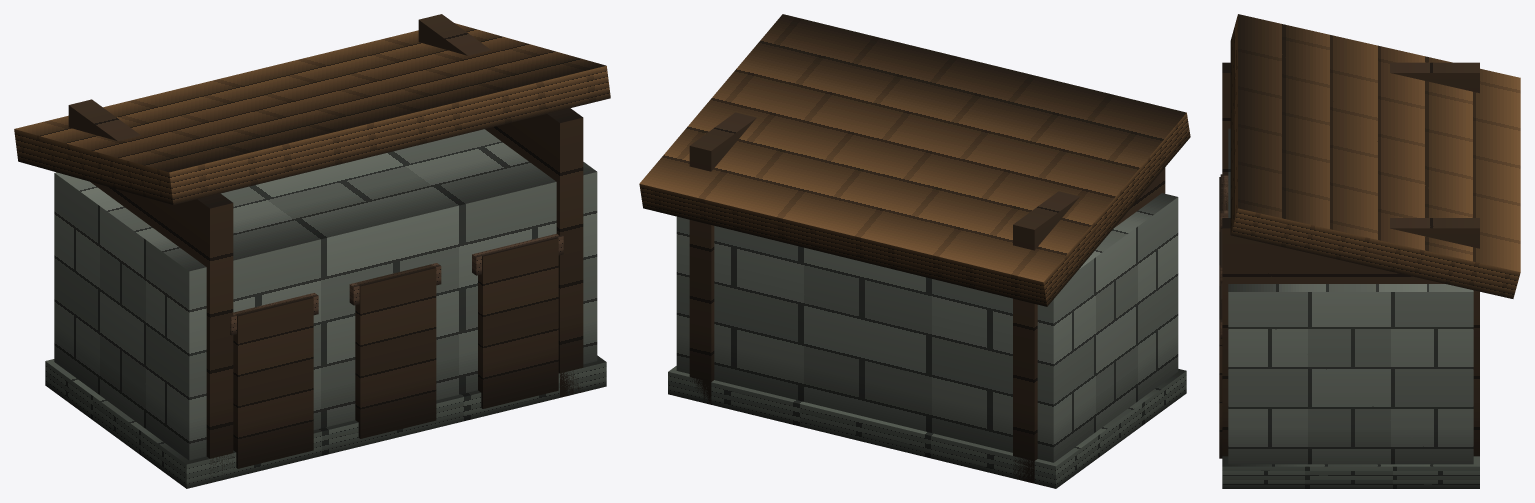
Rendered from stable_slate.gltf.
The picture shows the model from 3 angles, left to right: view 1: azimuth 30°, elevation 25°; view 2: azimuth 150°, elevation 25°; view 3: azimuth 270°, elevation 25°; orthographic projection. The views are drawn at different scales.
Parts seen in each view (by area): view 1: stable_slate; view 2: stable_slate; view 3: stable_slate.
Boxes of the visible parts, left/top/right/bottom form: stable_slate: left=14, top=14, right=610, bottom=488; stable_slate: left=639, top=14, right=1190, bottom=488; stable_slate: left=1219, top=14, right=1520, bottom=488.
Bounding box in the file's own units: 1.5 × 1.02 × 0.983.
1 material, 1 textured.
